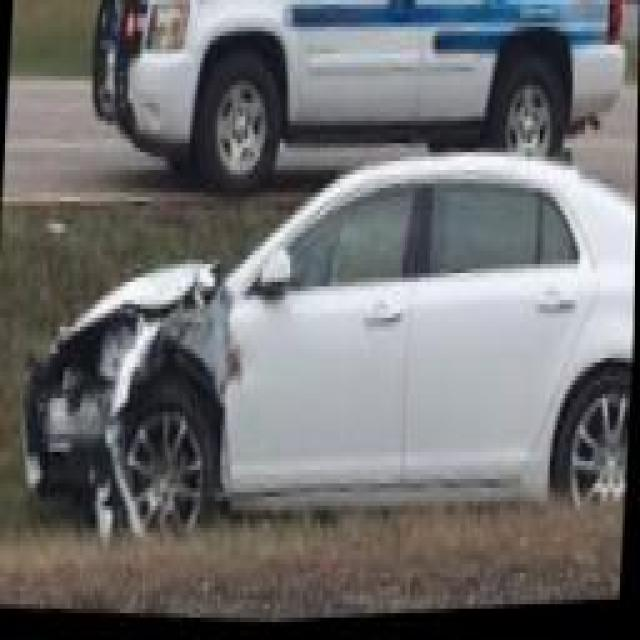Bonnet: (42, 260, 233, 386)
Bumper: (24, 360, 106, 515)
Fender: (51, 313, 235, 501)
